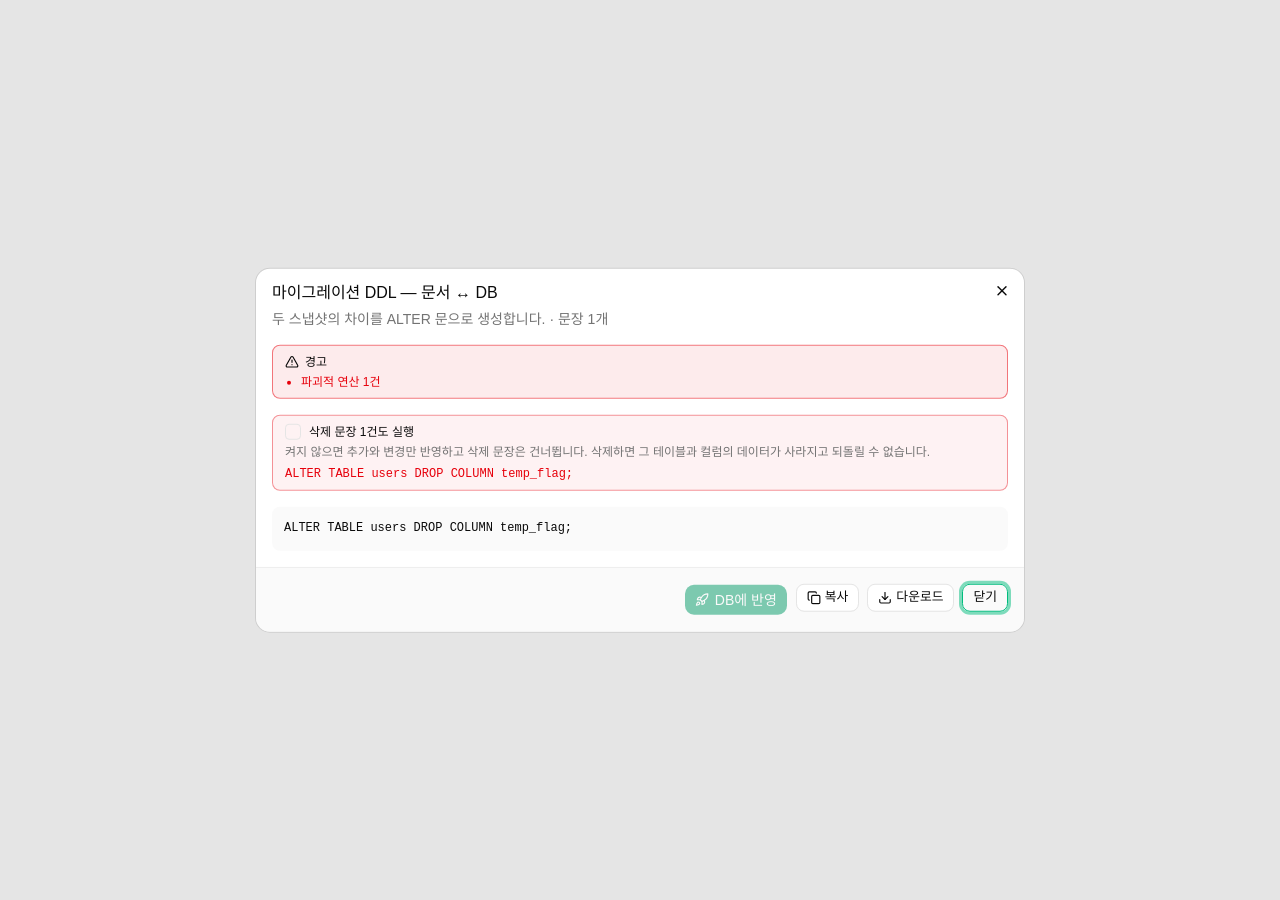
Scenario: MigrationDdlDialog — 문서↔실제 DB › 삭제 문장뿐이면 켜기 전에는 반영할 수 없다
The image size is (1280, 900).
Check: the element with test id "migration-destructive" is shown, box [272, 415, 1008, 491]
Check: the button with test id "migration-apply" is disabled, box [684, 583, 788, 615]
Click the checkbox with test id "migration-include-destructive" at (293, 432), box [285, 424, 301, 440]
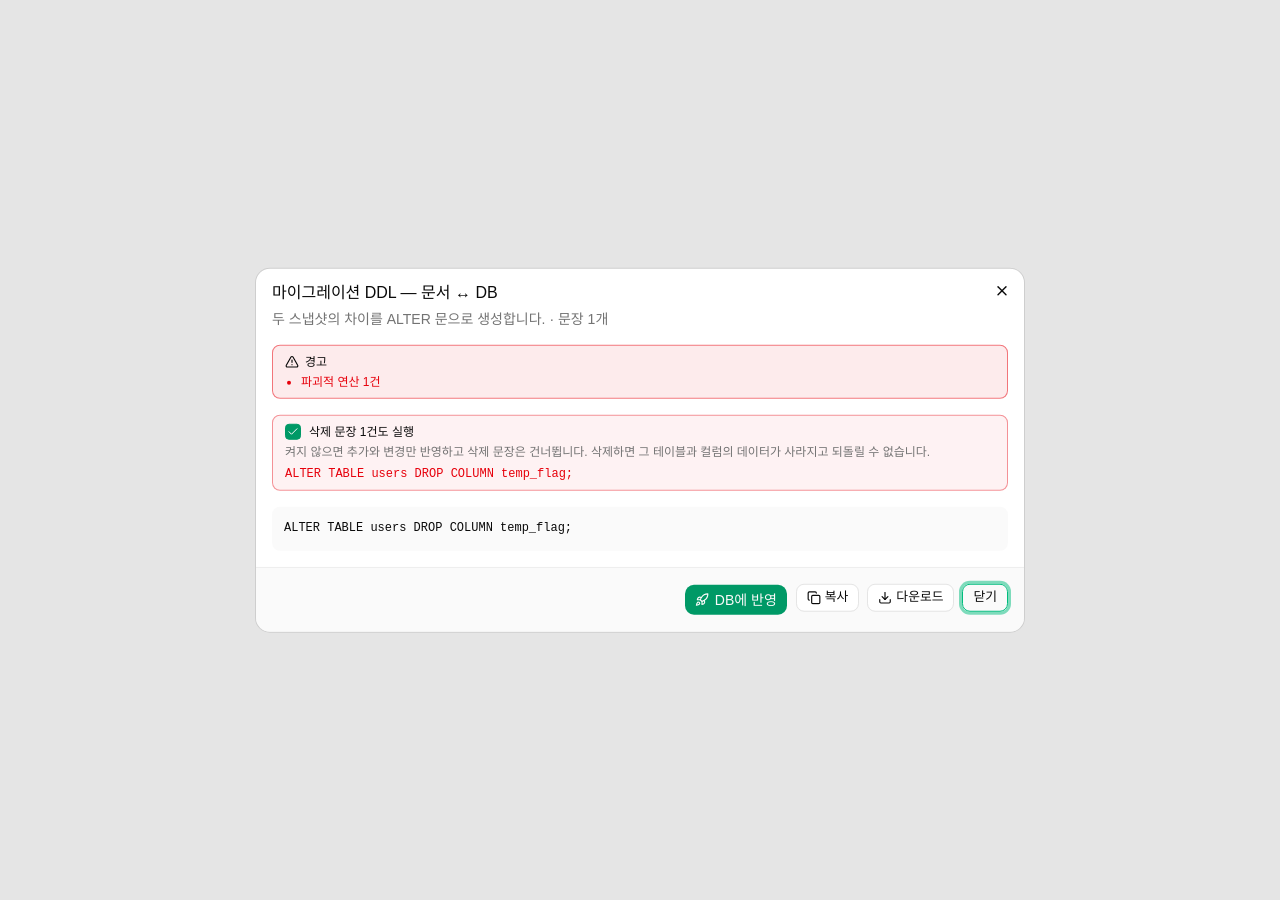
Check: the button with test id "migration-apply" is enabled, box [684, 583, 788, 615]
